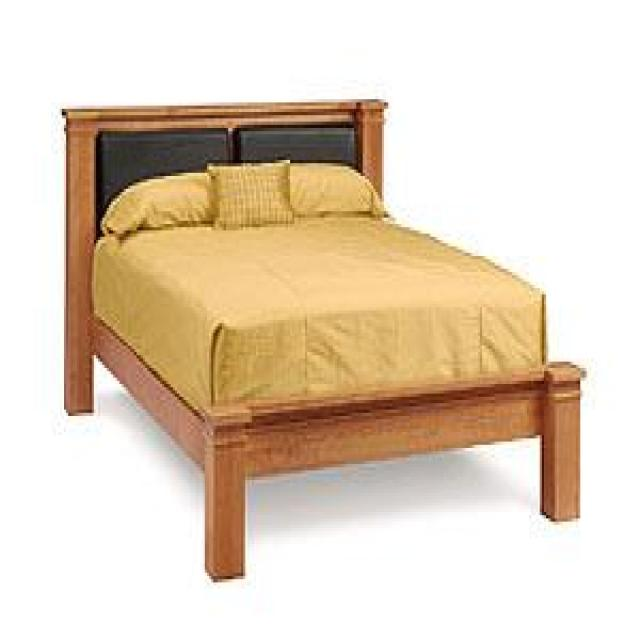bed: (60, 96, 584, 582)
